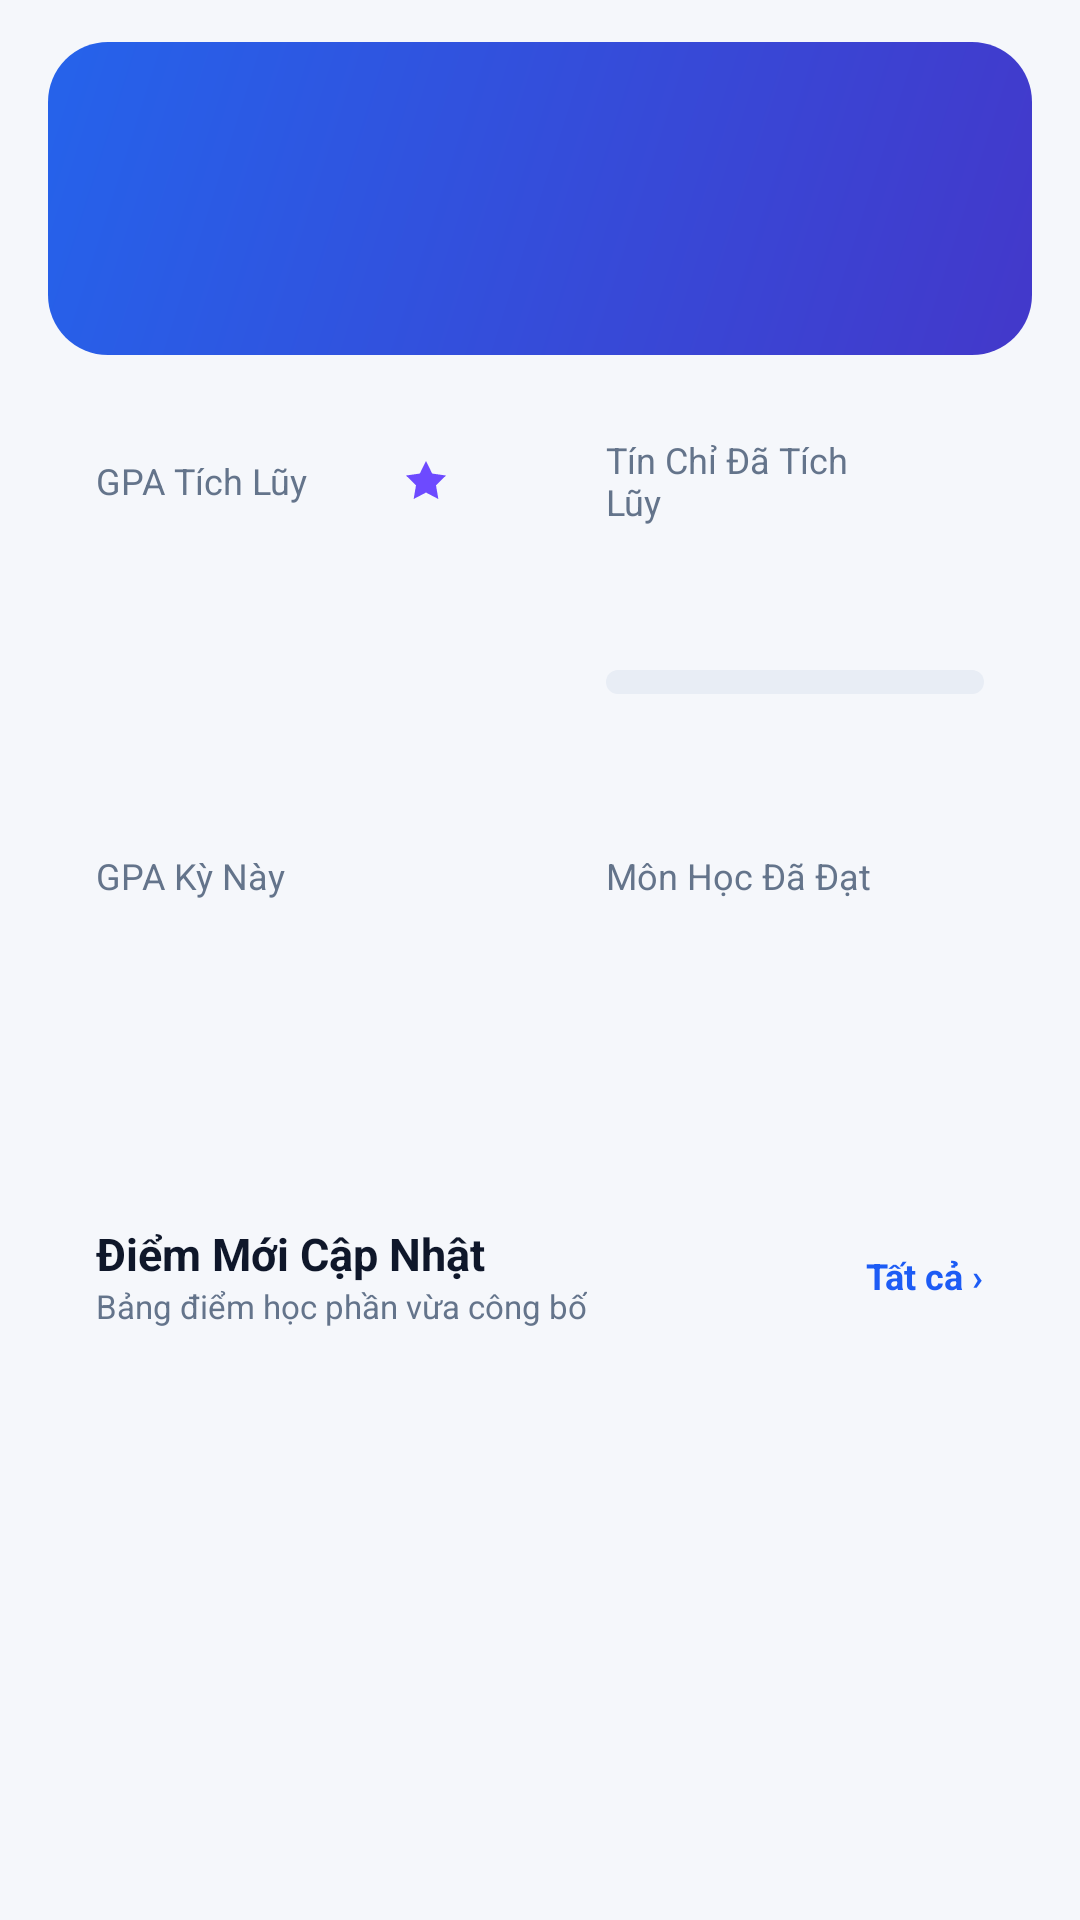

Named icons in this screenshot (1080 x 1920) and their centers, [x,y]:
star: [426,480]
